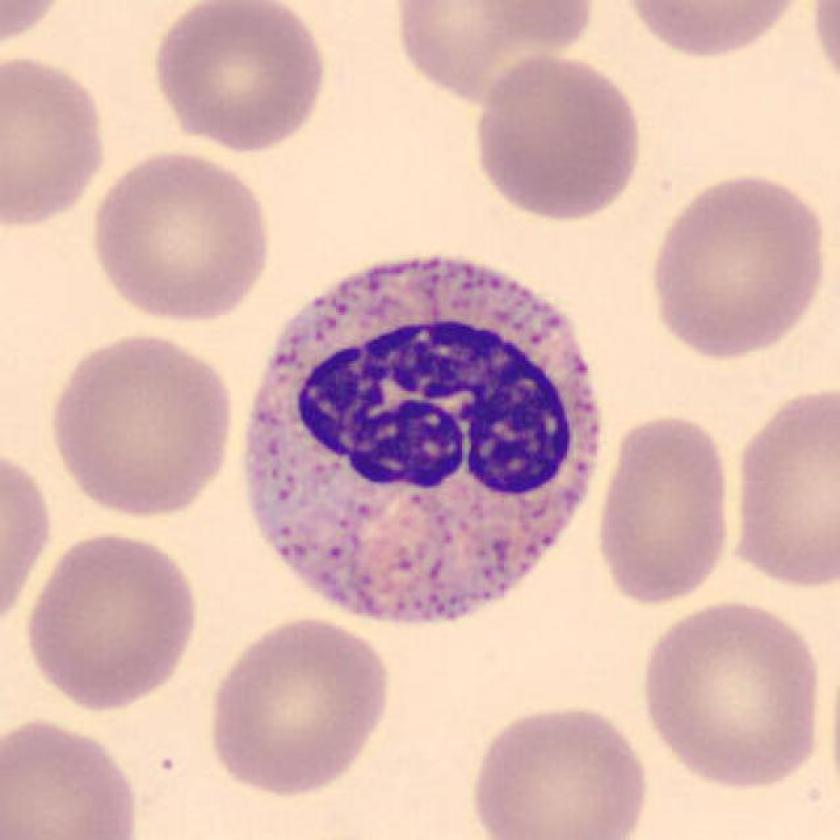neutrophil: (243, 260, 598, 623)
